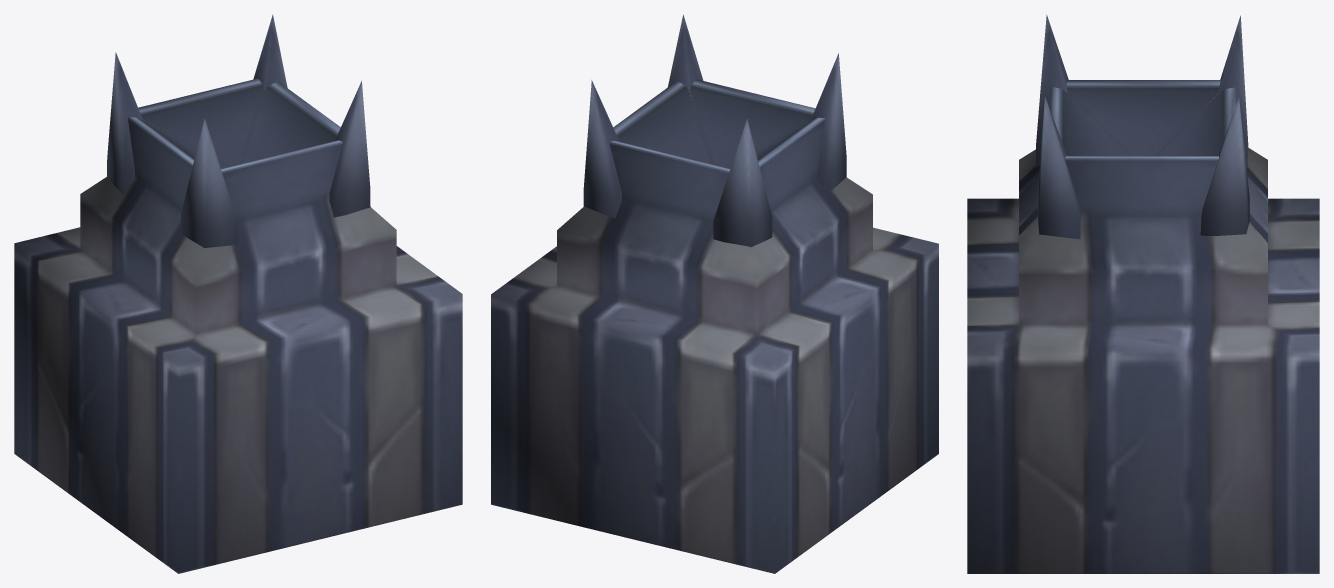
The model's file is Beidaying_xiaowujian01.FBX.
3 renders of one model, left to right at view 1: azimuth 30°, elevation 25°; view 2: azimuth 150°, elevation 25°; view 3: azimuth 270°, elevation 25°, orthographic. The views are drawn at different scales.
Visible parts, largest first — view 1: Beidaying_xiaowujian01; view 2: Beidaying_xiaowujian01; view 3: Beidaying_xiaowujian01.
Boxes of the visible parts, x1,y1,x2,y2 form: Beidaying_xiaowujian01: (14, 14, 462, 573); Beidaying_xiaowujian01: (491, 14, 938, 573); Beidaying_xiaowujian01: (967, 14, 1319, 573).
Size of the model in its own units: 34.05 by 34.05 by 47.32.
